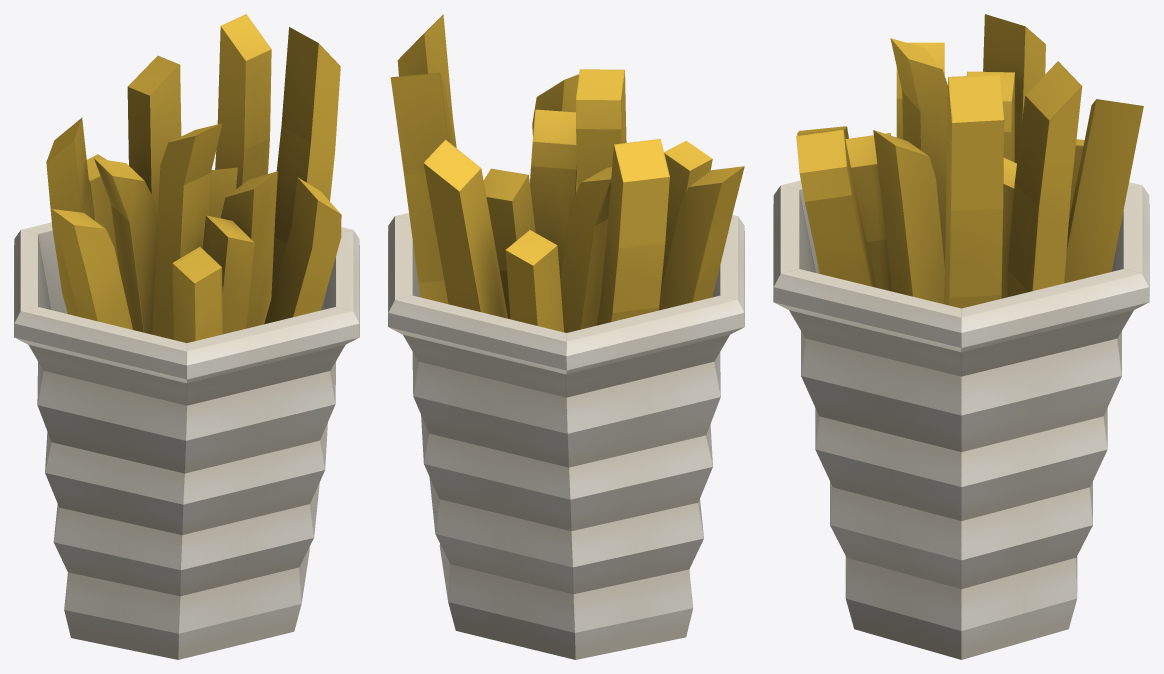
The model's file is FrenchFries.gltf.
3 views of the same model, side by side, from view 1: azimuth 30°, elevation 25°; view 2: azimuth 150°, elevation 25°; view 3: azimuth 270°, elevation 25° (orthographic). The views are drawn at different scales.
Parts seen in each view (by area): view 1: node-0; view 2: node-0; view 3: node-0.
Boxes of the visible parts, bbox=[...] form: node-0: bbox=[14, 14, 359, 659]; node-0: bbox=[388, 14, 744, 659]; node-0: bbox=[773, 14, 1149, 659].
Bounding box in the file's own units: 6.28 × 9.38 × 5.44.
1 material, 1 textured.
